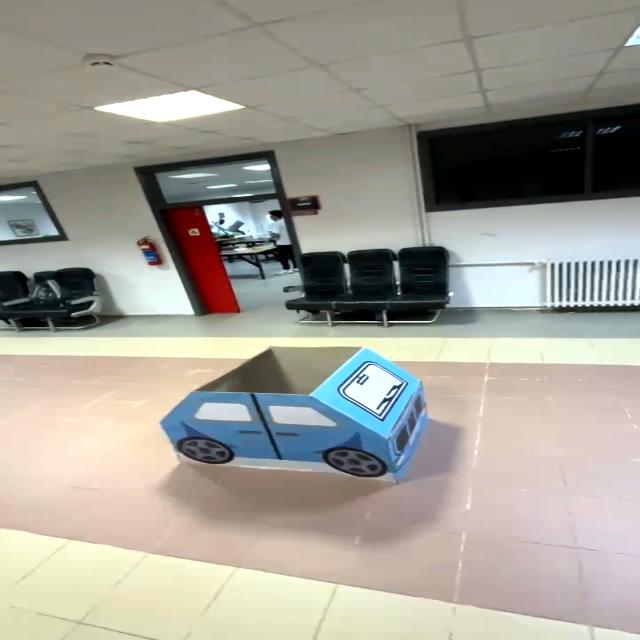blue_car: (142, 337, 464, 498)
